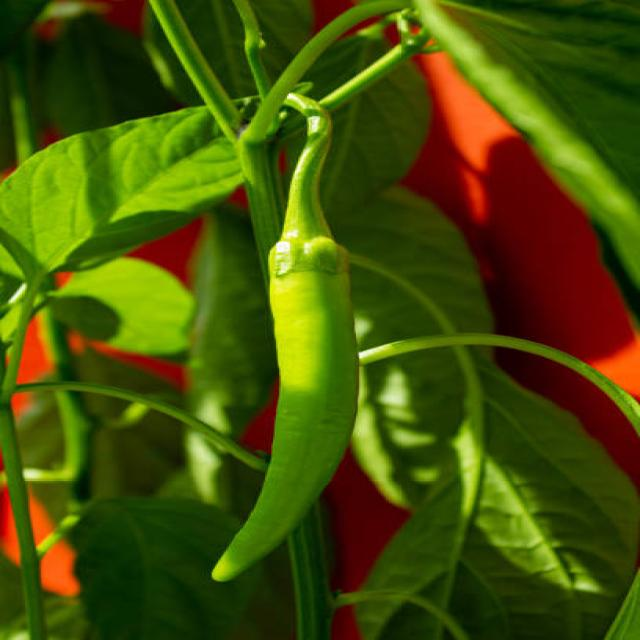Unripe: (212, 251, 358, 579)
